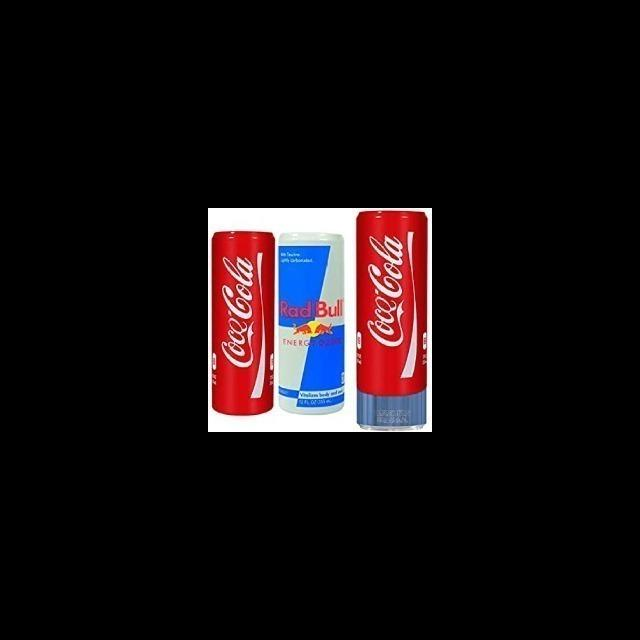metal: (350, 208, 432, 432), (271, 230, 348, 423), (208, 226, 278, 421)
